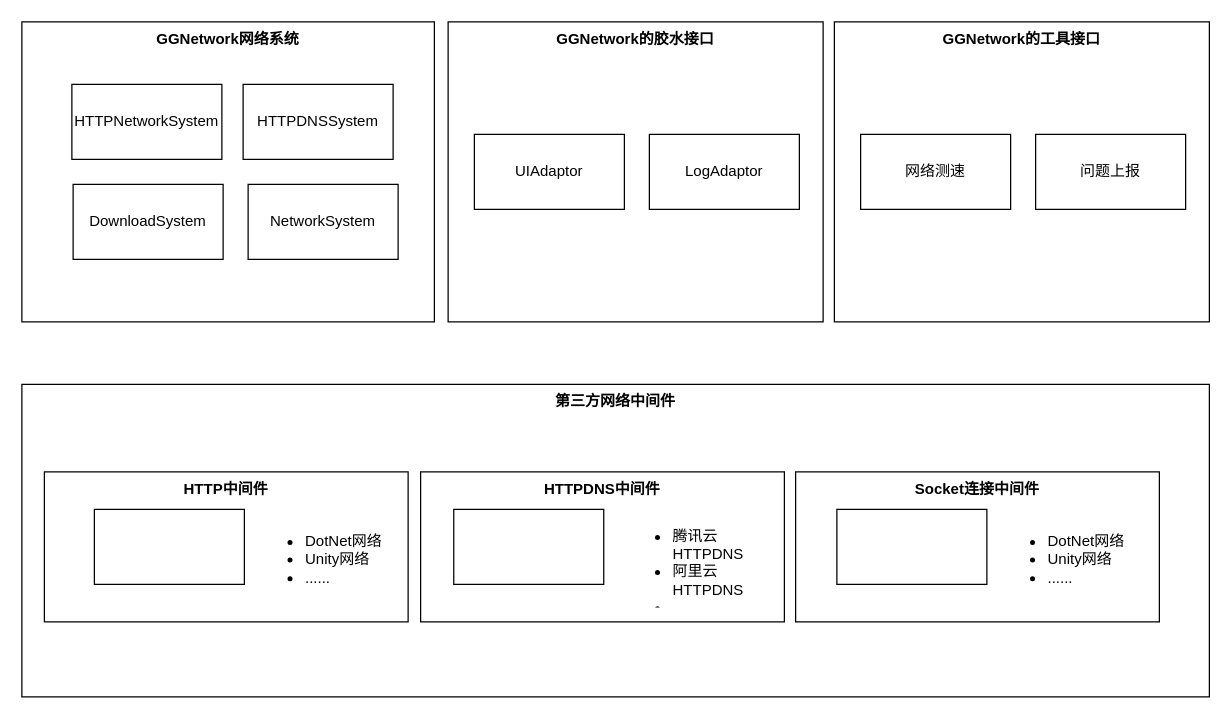
This 1231x719 diagram has some shape labels left out. Each missing label, with the centre of its shape:
BestHTTP: the point at 168,546
内置 WebSocket+Pomelo 内部实现 (默认): the point at 911,546
橙域HTTPDNS: the point at 528,546
